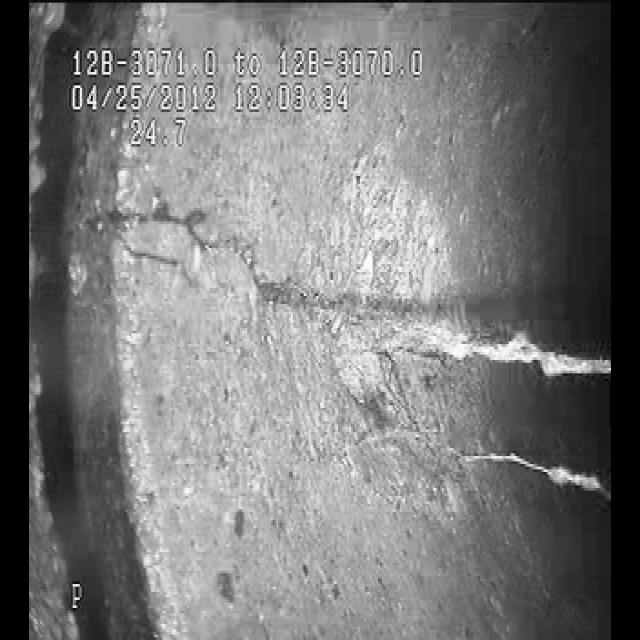Crack: (100, 174, 578, 410)
